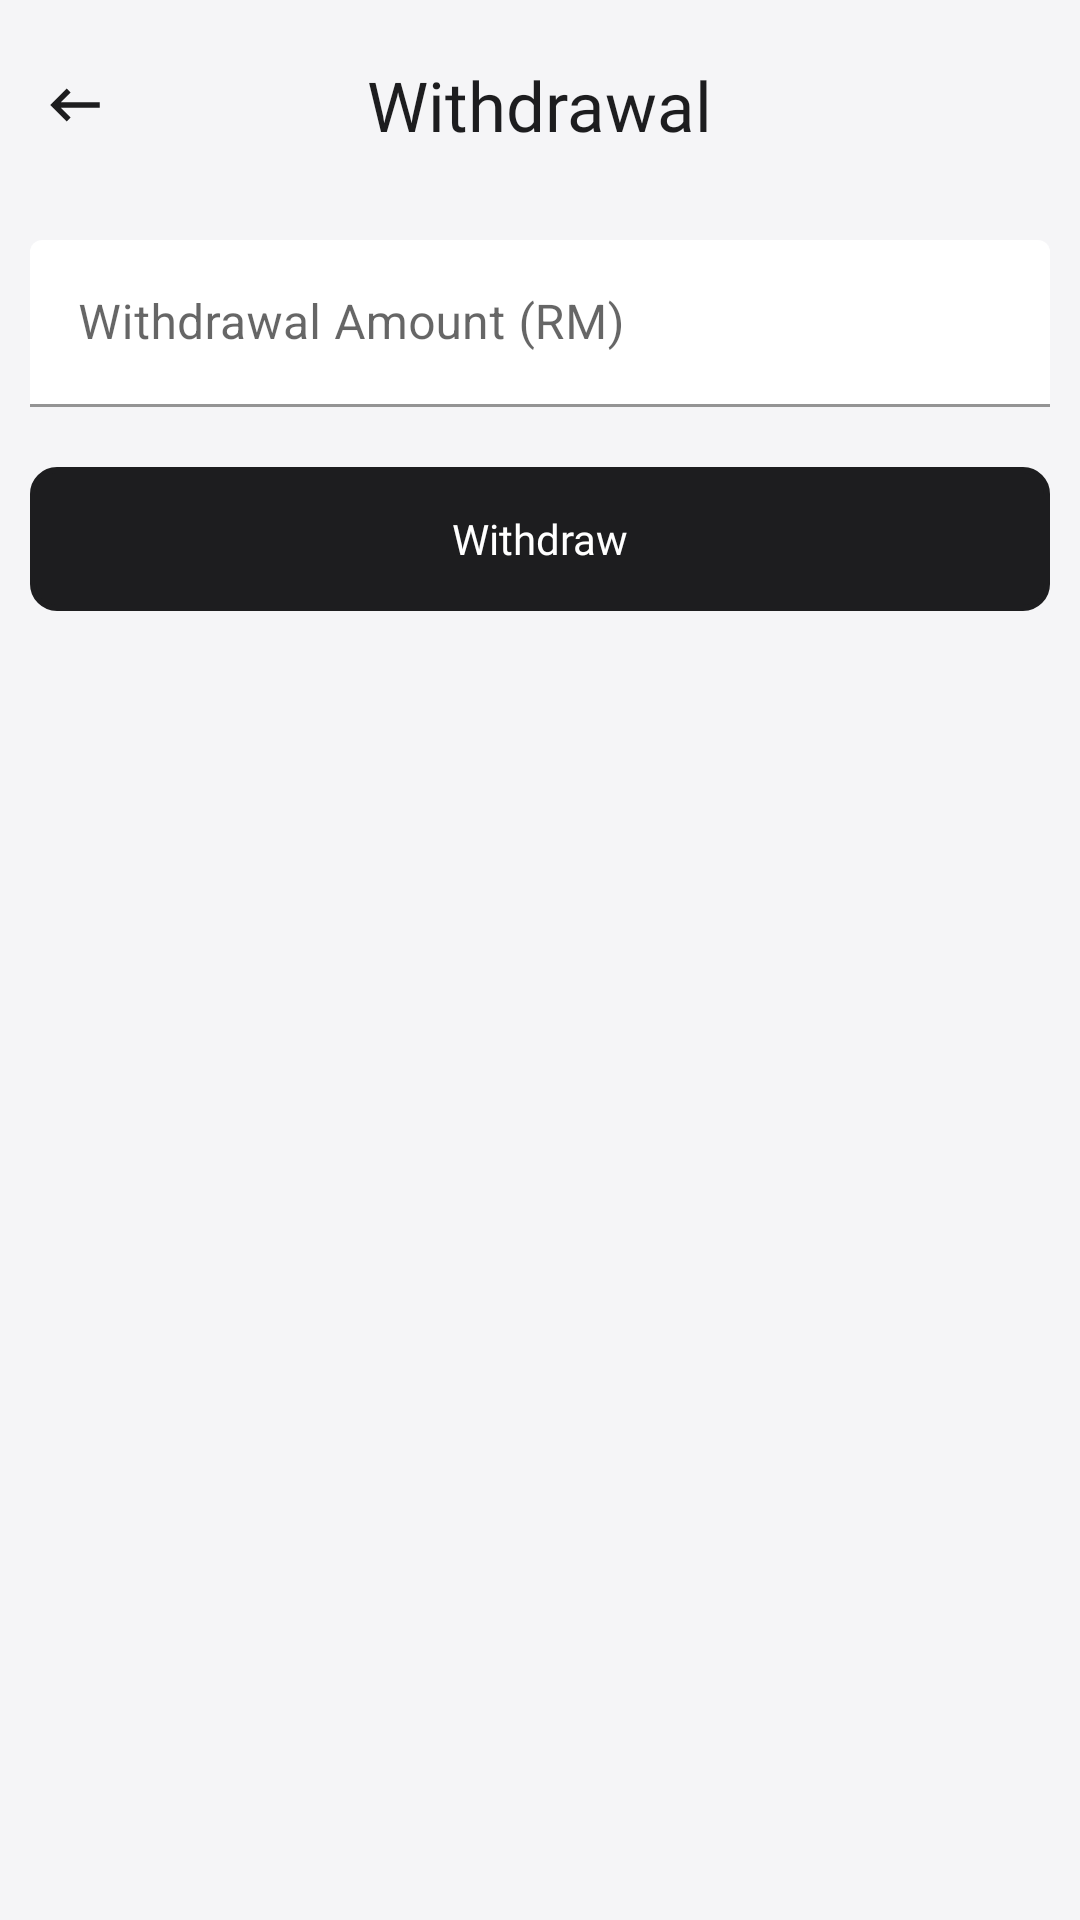

Icon bounding boxes for this 1080*1920 phone screenshot, format {"x1": x1, "y1": y1, "x2": x2, "y2": y2}:
keyboard backspace: {"x1": 50, "y1": 88, "x2": 100, "y2": 122}
